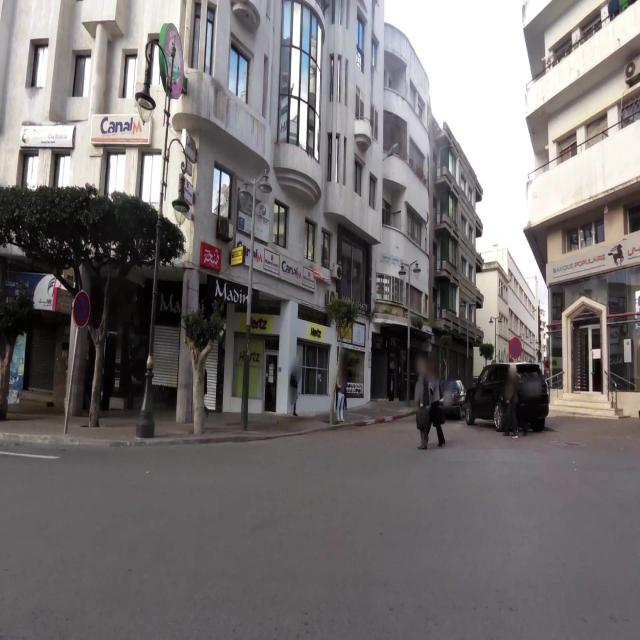forb_stopping: (508, 336, 522, 359)
forb_waiting: (73, 291, 90, 328)
